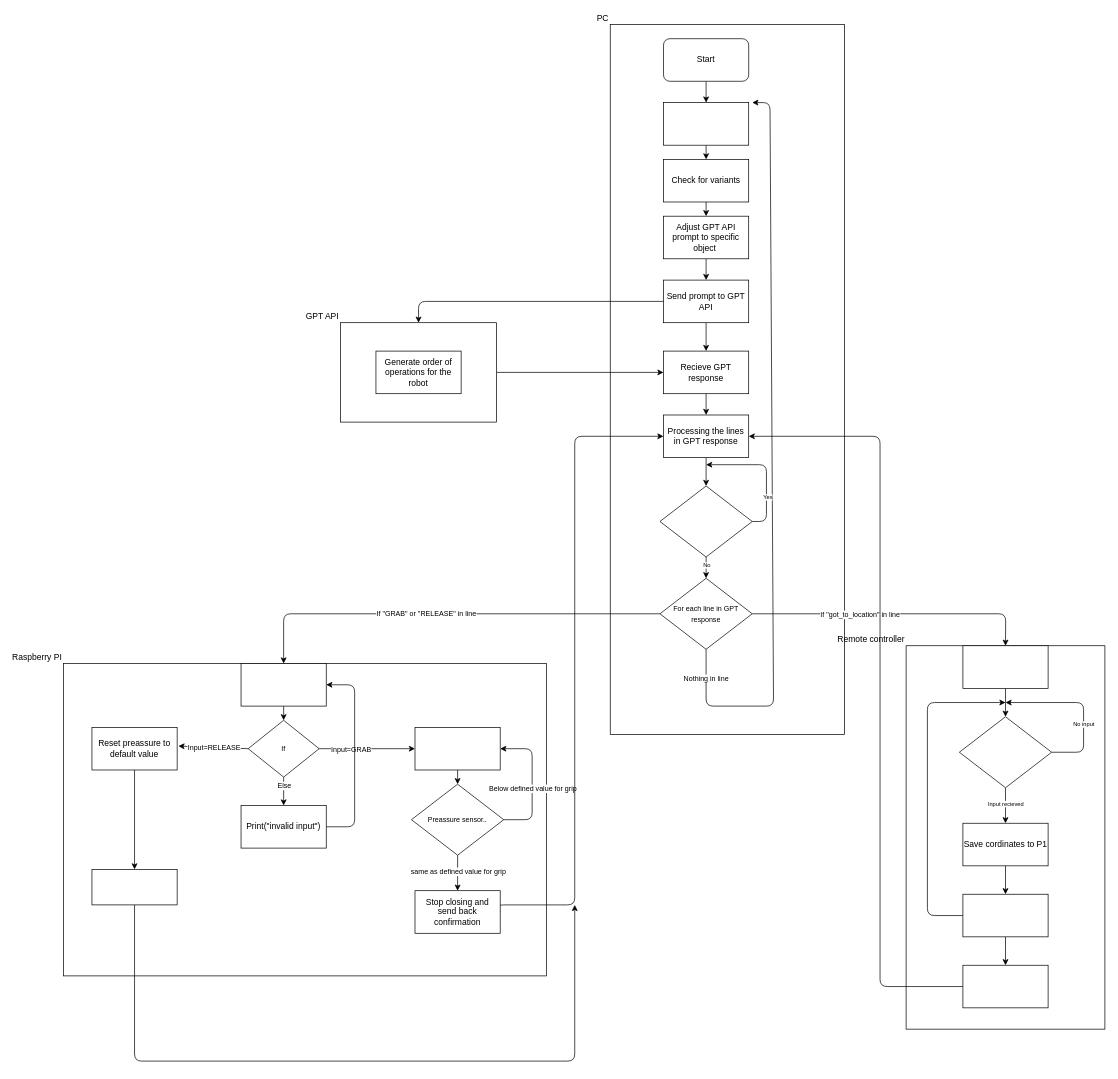
The diagram is 1118 pixels wide and 1079 high, and some of its shapes have lost their labels. Here are the shapes that lost their labels. From the top down, the centre of each, then its label:
the point at 706,123: Voice input -> convert to text
the point at 705,521: Is another operation ongoing?
the point at 283,684: Waits for input
the point at 1005,666: Define communication line
the point at 457,748: Increase preassure
the point at 1005,752: Wait for cordinate input
the point at 134,887: Send back confirmation
the point at 1005,915: Move to P1
the point at 1005,986: Send confirmation back
